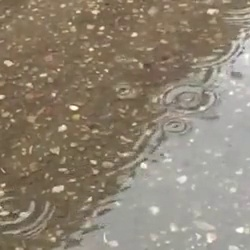drop: (1, 192, 54, 237), (163, 84, 216, 116), (85, 114, 111, 135), (161, 118, 189, 137), (115, 83, 135, 100), (112, 54, 132, 65), (229, 70, 244, 81)
